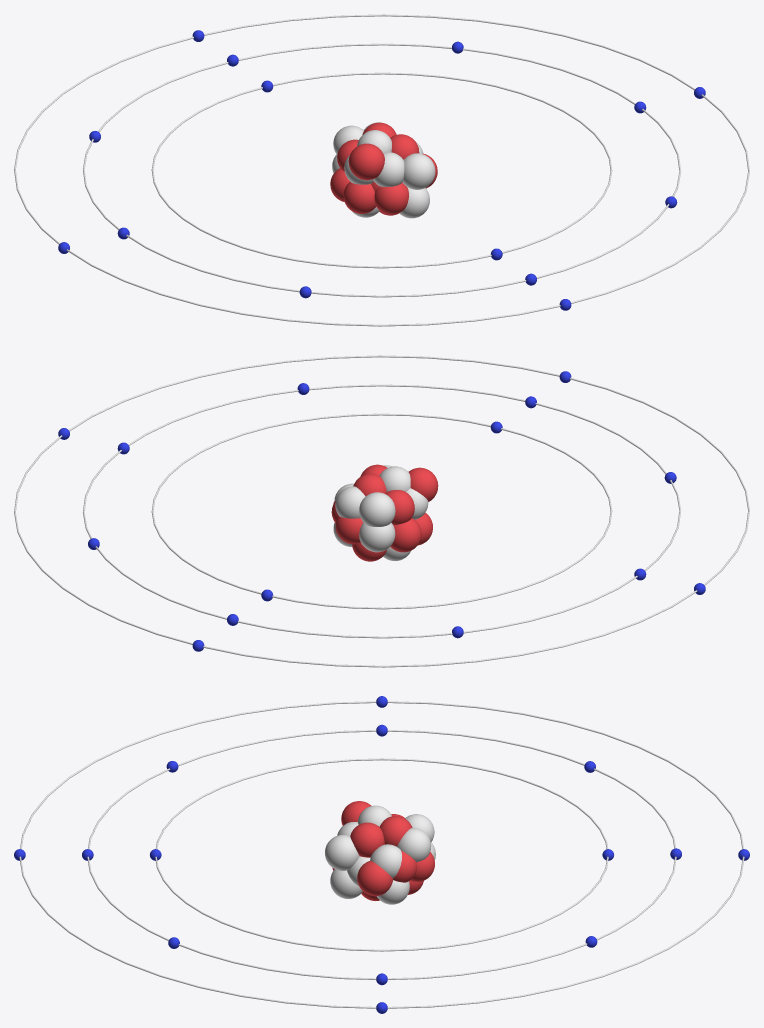
File: Silicium.glb
3 renders of one model, top to bottom at view 1: azimuth 30°, elevation 25°; view 2: azimuth 150°, elevation 25°; view 3: azimuth 270°, elevation 25°, orthographic.
Visible parts, largest first — view 1: M-Schale, L-Schale, K-Schale, Proton 14, Neutron 13, Proton 10, Proton 7, Neutron 10, Neutron 14; view 2: M-Schale, L-Schale, K-Schale, Neutron 9, Neutron 8, Proton 8, Neutron 12, Proton 14, Proton 9, Neutron 11, Proton 12, Proton 6; view 3: M-Schale, L-Schale, K-Schale, Neutron 13, Proton 11, Proton 13, Neutron 12, Neutron 6, Proton 6, Neutron 14.
Boxes of the visible parts, x1=… form: M-Schale: x1=14, y1=14, x2=749, y2=326; L-Schale: x1=83, y1=43, x2=680, y2=297; K-Schale: x1=151, y1=72, x2=612, y2=268; Proton 14: x1=348, y1=143, x2=384, y2=180; Neutron 13: x1=402, y1=153, x2=435, y2=189; Proton 10: x1=374, y1=182, x2=408, y2=214; Proton 7: x1=343, y1=181, x2=376, y2=213; Neutron 10: x1=373, y1=152, x2=404, y2=187; Neutron 14: x1=399, y1=187, x2=429, y2=218; M-Schale: x1=14, y1=355, x2=749, y2=667; L-Schale: x1=83, y1=384, x2=680, y2=638; K-Schale: x1=151, y1=413, x2=612, y2=609; Neutron 9: x1=359, y1=492, x2=395, y2=526; Neutron 8: x1=359, y1=522, x2=395, y2=552; Proton 8: x1=390, y1=518, x2=421, y2=552; Neutron 12: x1=335, y1=486, x2=365, y2=518; Proton 14: x1=408, y1=467, x2=438, y2=501; Proton 9: x1=385, y1=490, x2=414, y2=524; Neutron 11: x1=379, y1=466, x2=410, y2=491; Proton 12: x1=335, y1=516, x2=363, y2=544; Proton 6: x1=353, y1=473, x2=386, y2=496; M-Schale: x1=19, y1=701, x2=744, y2=1008; L-Schale: x1=87, y1=730, x2=676, y2=979; K-Schale: x1=155, y1=758, x2=608, y2=951; Neutron 13: x1=325, y1=835, x2=359, y2=870; Proton 11: x1=357, y1=860, x2=392, y2=896; Proton 13: x1=350, y1=822, x2=384, y2=857; Neutron 12: x1=397, y1=828, x2=431, y2=862; Neutron 6: x1=370, y1=844, x2=401, y2=878; Proton 6: x1=379, y1=816, x2=412, y2=846; Neutron 14: x1=330, y1=869, x2=362, y2=898.
Bounding box in the file's own units: 16.26 × 2.09 × 16.26.
